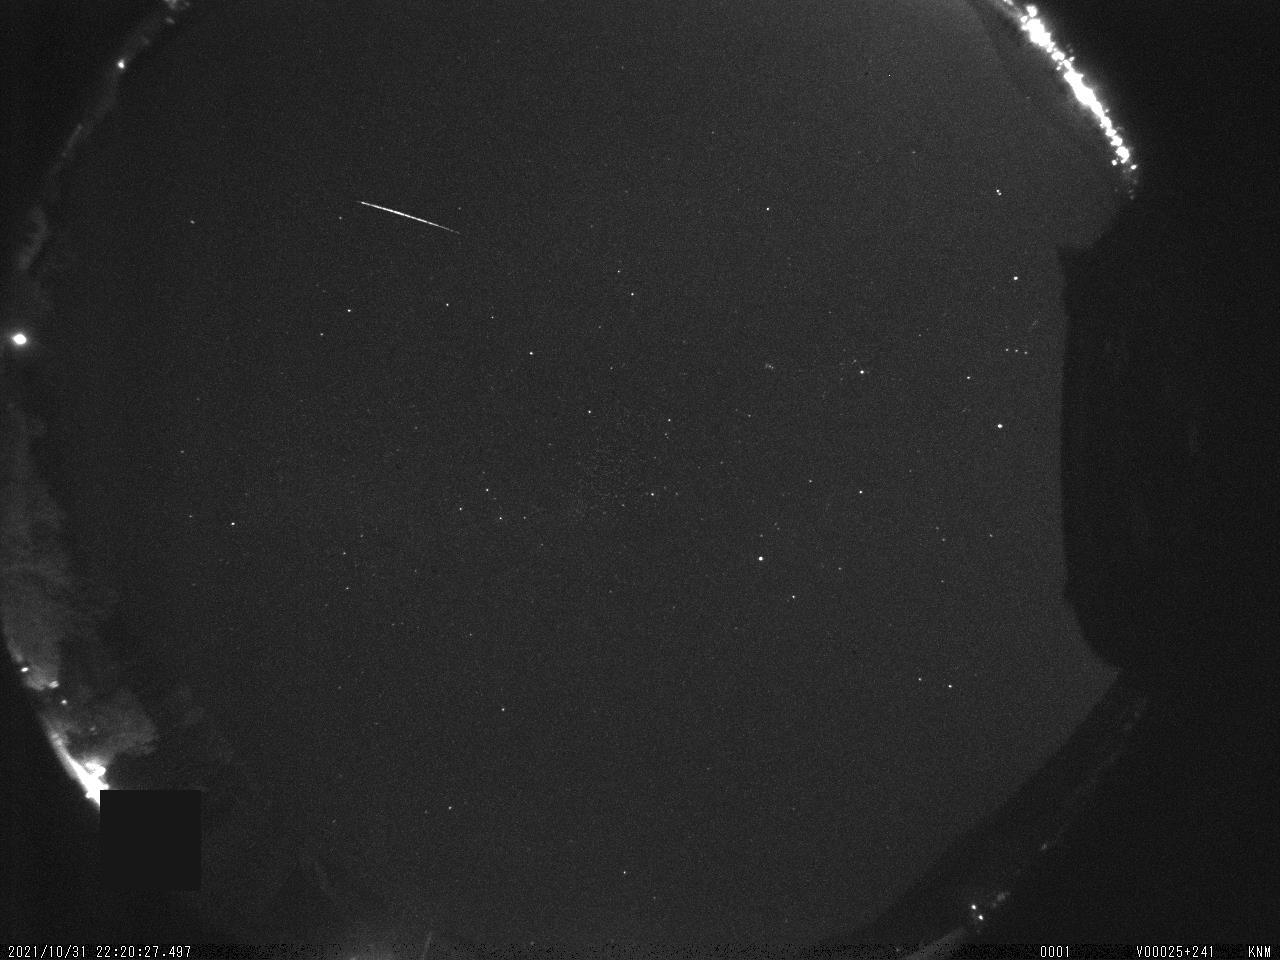meteor: (338, 176, 497, 253)
